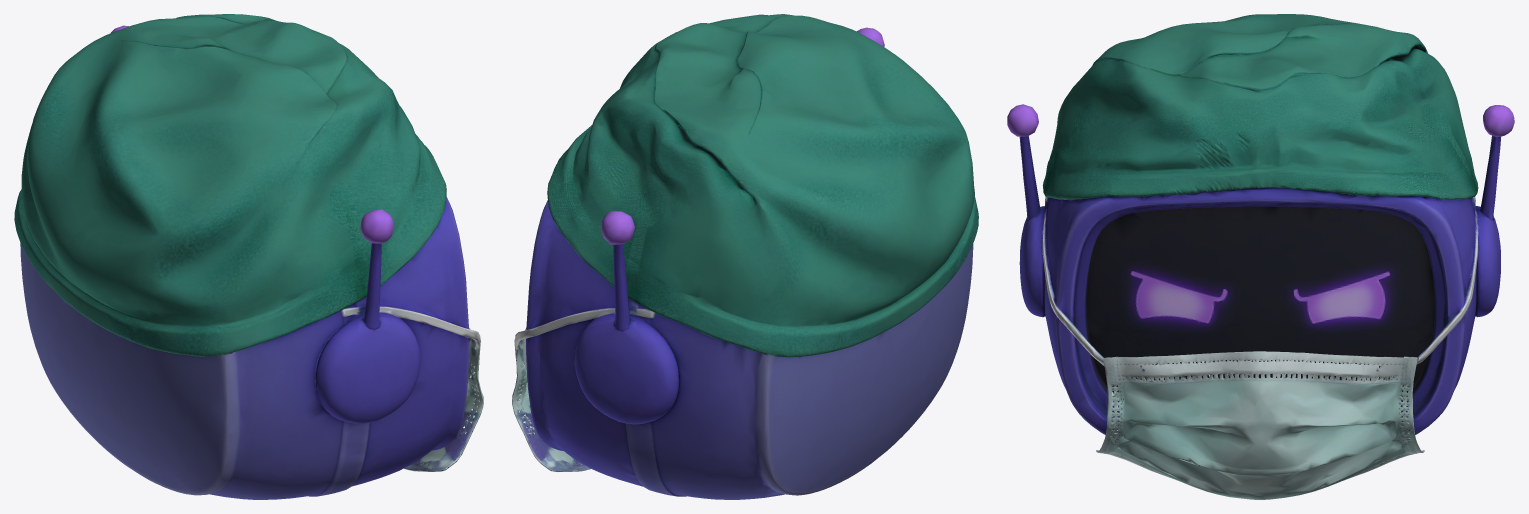
Rendered from doctor.glb.
The picture shows the model from 3 angles, left to right: view 1: azimuth 30°, elevation 25°; view 2: azimuth 150°, elevation 25°; view 3: azimuth 270°, elevation 25°; orthographic projection. The views are drawn at different scales.
Visible parts, largest first — view 1: tripo_node_aa8ed910-9498-4559-8a58-5af72150ac6d; view 2: tripo_node_aa8ed910-9498-4559-8a58-5af72150ac6d; view 3: tripo_node_aa8ed910-9498-4559-8a58-5af72150ac6d.
Boxes of the visible parts, x1,y1,x2,y2 form: tripo_node_aa8ed910-9498-4559-8a58-5af72150ac6d: (14, 14, 483, 499); tripo_node_aa8ed910-9498-4559-8a58-5af72150ac6d: (512, 14, 978, 499); tripo_node_aa8ed910-9498-4559-8a58-5af72150ac6d: (1007, 14, 1514, 499).
Size of the model in its own units: 0.8063 by 0.8524 by 0.9785.
Materials: 1 (1 with a texture image).
